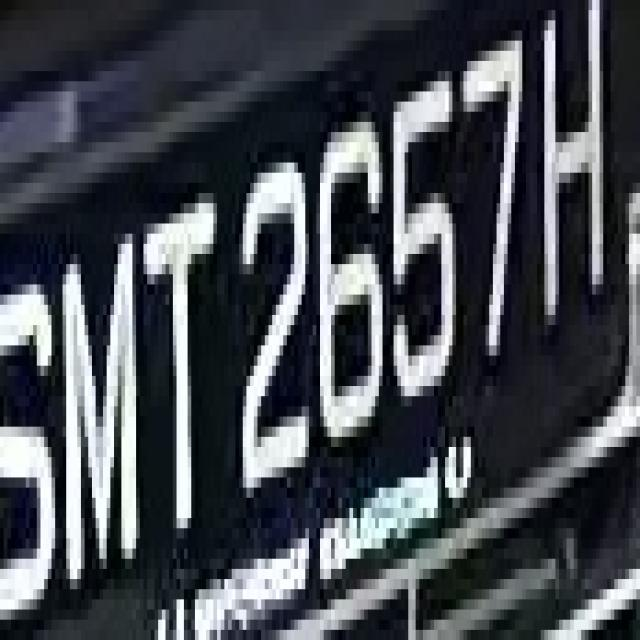2: (239, 132, 316, 538)
5: (379, 41, 463, 427)
6: (316, 81, 390, 468)
7: (448, 20, 530, 366)
H: (530, 20, 614, 315)
M: (48, 183, 140, 620)
T: (129, 162, 224, 569)
